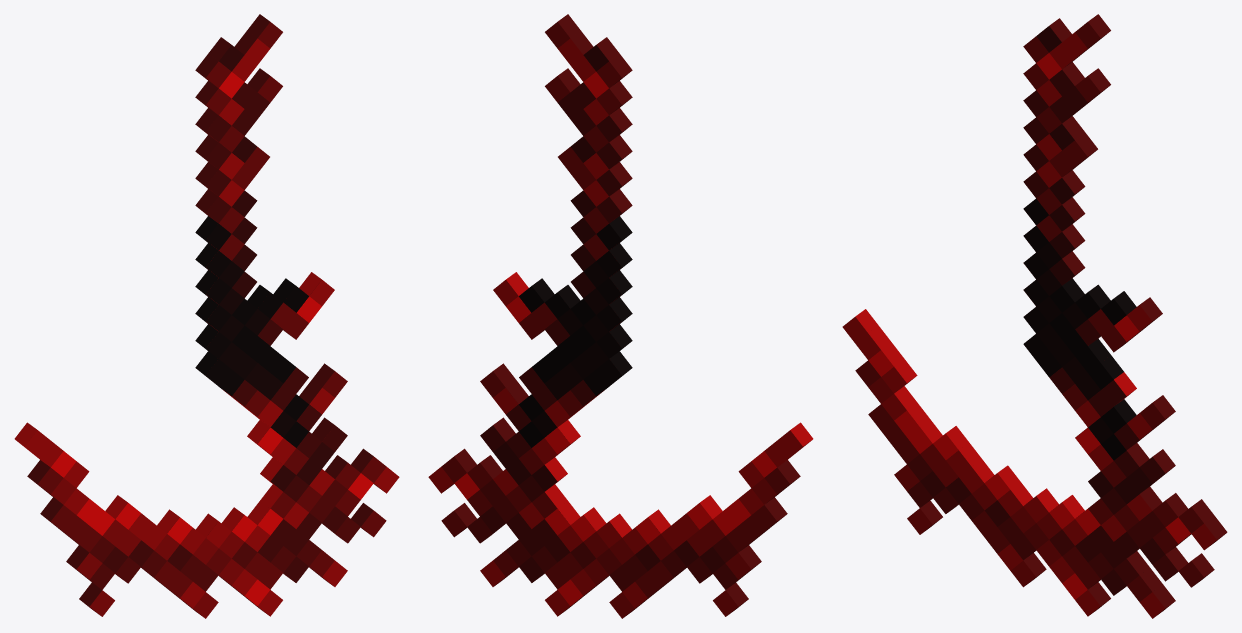
Rendered from SM_FrostScythe_Unique2.glb.
3 renders of one model, left to right at view 1: azimuth 30°, elevation 25°; view 2: azimuth 150°, elevation 25°; view 3: azimuth 330°, elevation 25°, orthographic.
Visible parts, largest first — view 1: SM_FrostScythe_Unique2.001; view 2: SM_FrostScythe_Unique2.001; view 3: SM_FrostScythe_Unique2.001.
Part boxes in pixels (bbox=[...]): SM_FrostScythe_Unique2.001: bbox=[14, 14, 399, 618]; SM_FrostScythe_Unique2.001: bbox=[428, 14, 813, 618]; SM_FrostScythe_Unique2.001: bbox=[842, 14, 1227, 618].
Bounding box in the file's own units: 128 × 194 × 6.25.
1 material, 1 textured.
